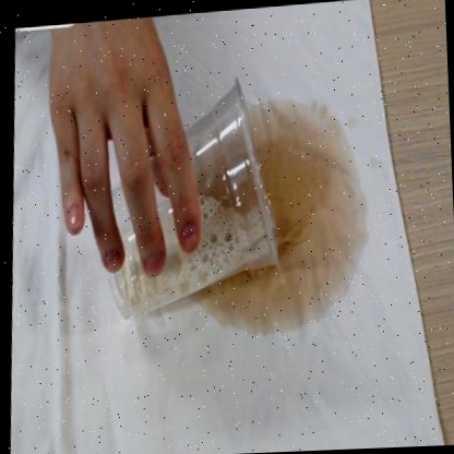coffee: (276, 127, 356, 265), (224, 279, 321, 322)
